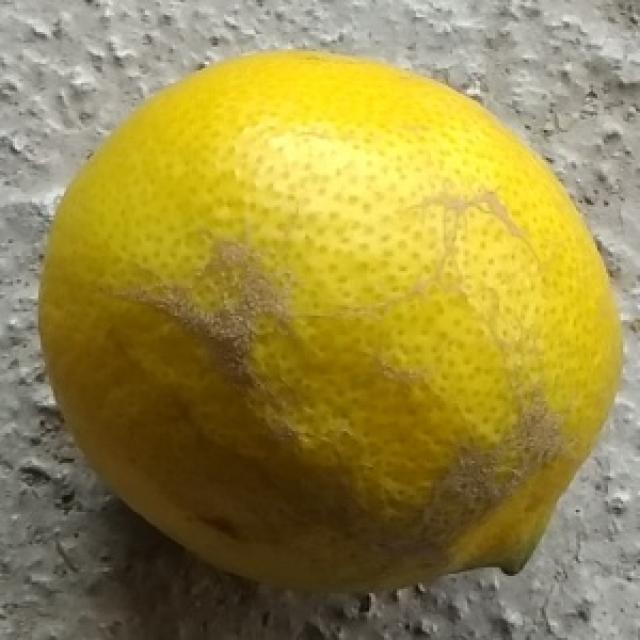overripe: (37, 44, 617, 608)
